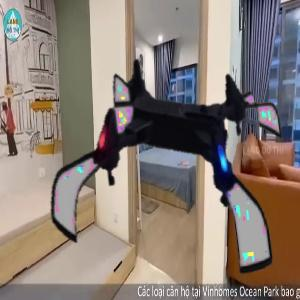drone: (41, 45, 292, 296)
